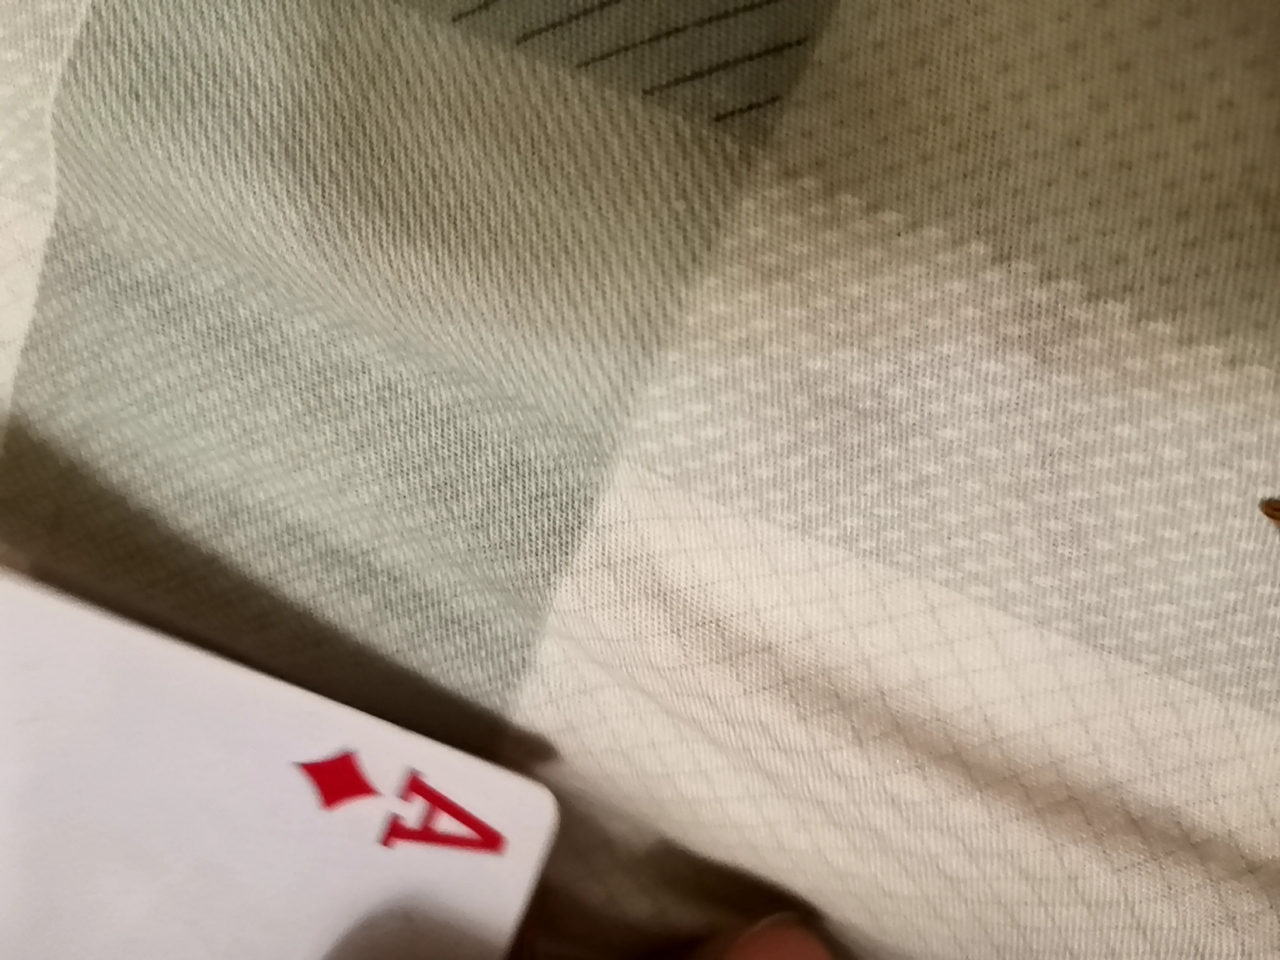fk a: (0, 404, 595, 954)
